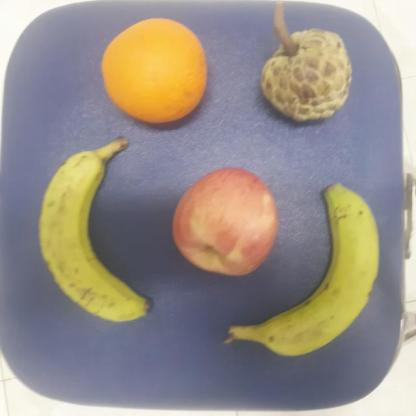annona: (259, 27, 354, 128)
apple: (168, 164, 281, 275)
banana: (210, 181, 383, 358), (35, 137, 151, 322)
orange: (96, 15, 210, 126)
